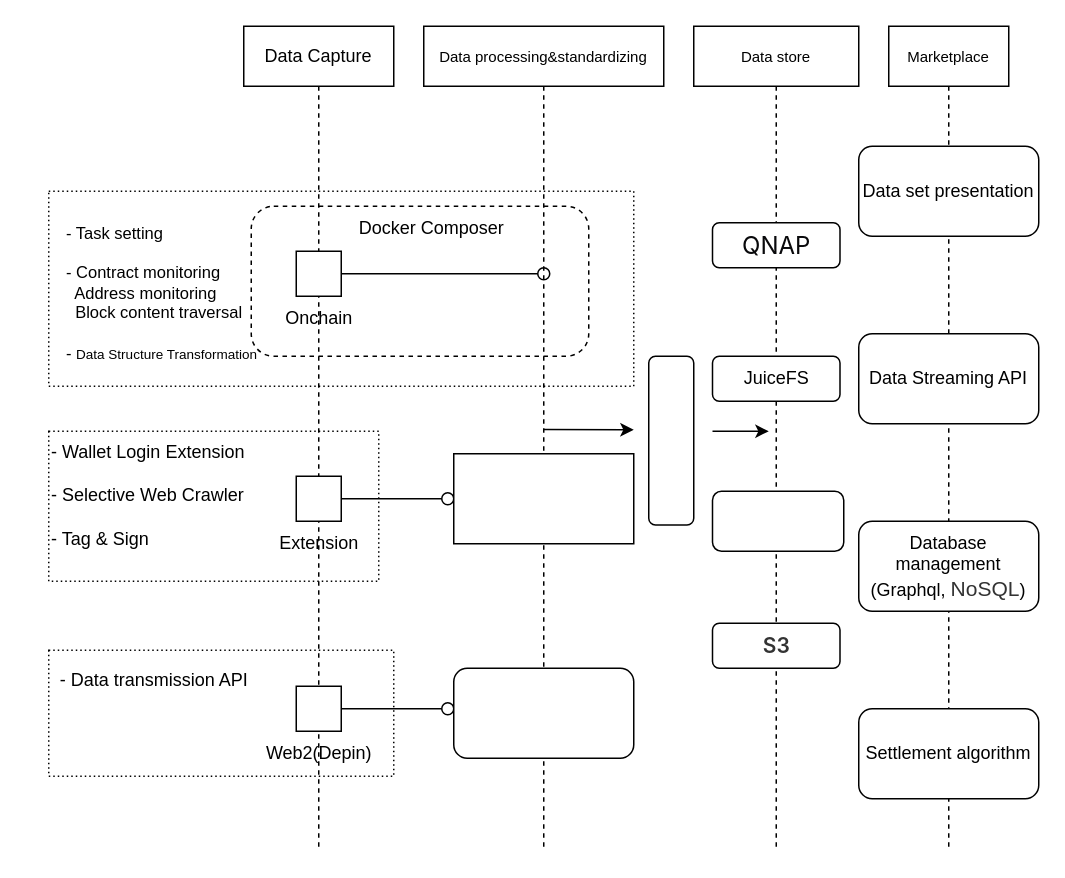
This 1065x878 diagram has some shape labels left out. The shapes that lost their labels are listed below. From the top down, each one's centre as x and y in pixels, then its label:
the point at 670,440: Access control
the point at 543,498: · Text and image content annotation · unified data structure
the point at 777,520: MinIO
the point at 543,712: on-chain data processing nodes
